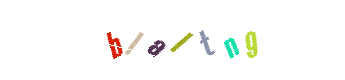9: (191, 0, 271, 80)
A: (126, 0, 206, 80)
B: (74, 0, 154, 80)
L: (116, 0, 196, 80), (131, 0, 211, 80)
N: (186, 0, 266, 80)
T: (159, 0, 239, 80)
